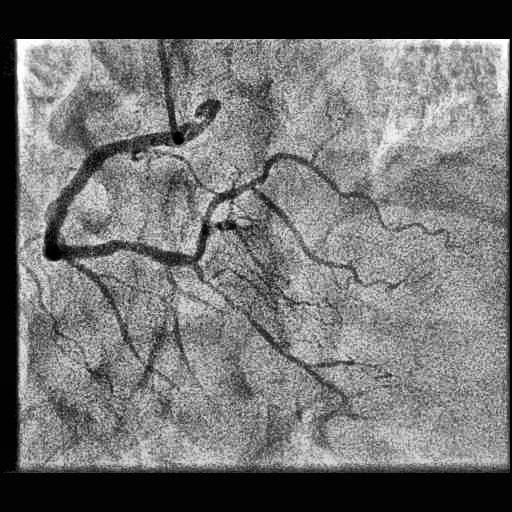pborca: (196, 153, 435, 257)
pda: (195, 265, 346, 397)
rca: (43, 132, 194, 267)
